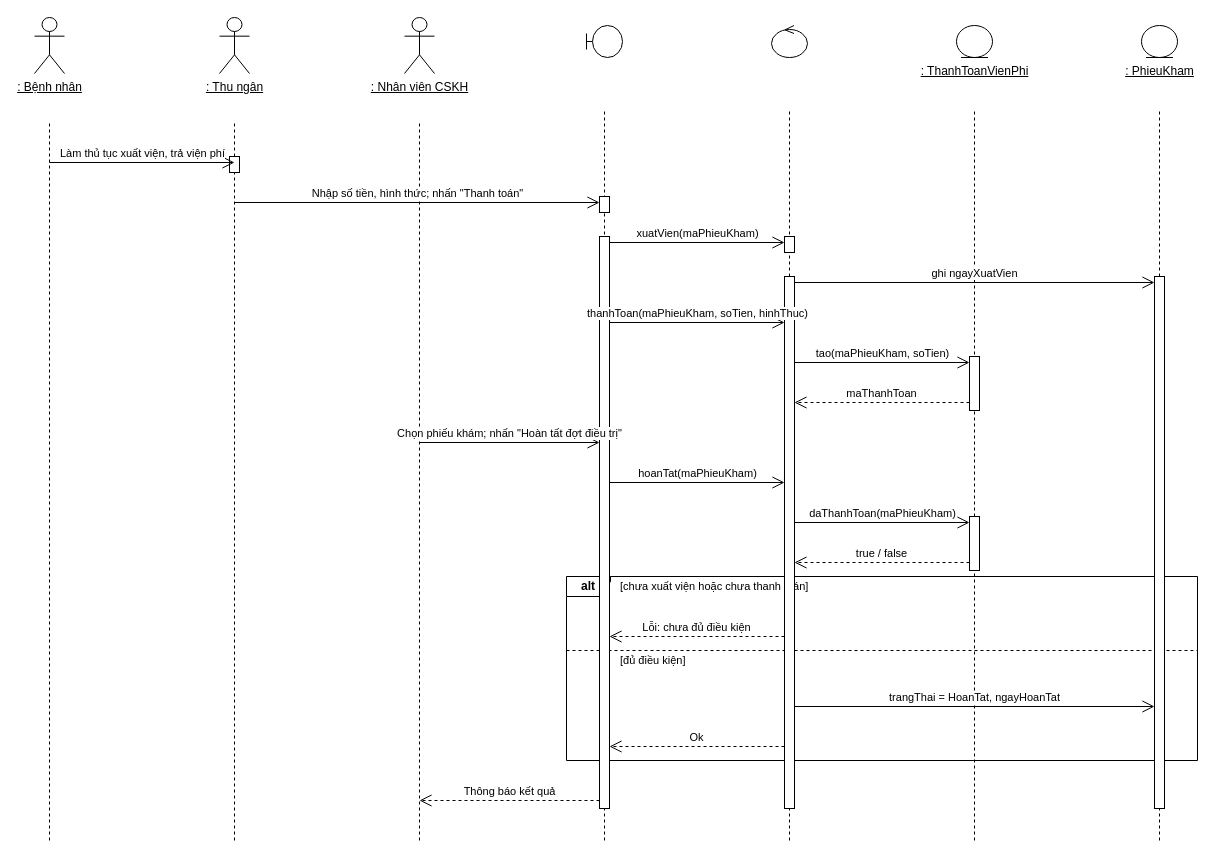
Image size: 1216x859. Some labels were removed from this diagram. Here are the shapes that lost their labels. From the top down, the centre of each, then its label:
pixel 604 41: : Màn hình hoàn tất
pixel 789 41: : Điều khiển điều trị
